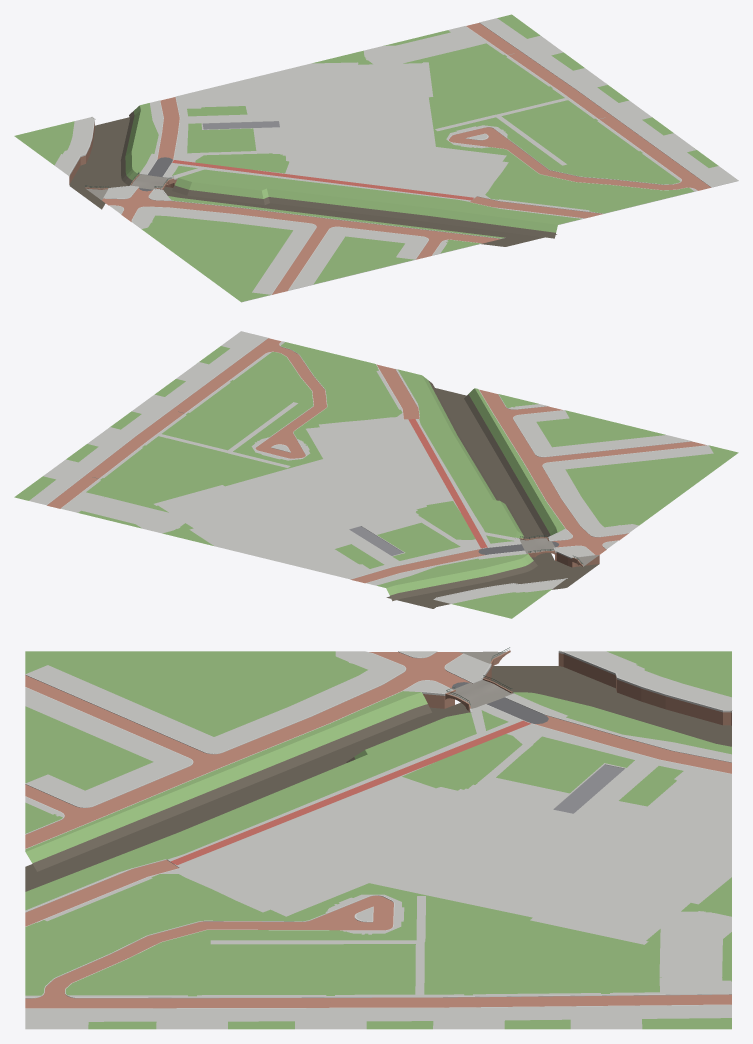
Rendered from ground_8_13.glb.
3 renders of one model, top to bottom at view 1: azimuth 30°, elevation 25°; view 2: azimuth 150°, elevation 25°; view 3: azimuth 270°, elevation 25°, orthographic. The views are drawn at different scales.
Parts seen in each view (by area): view 1: ground_8_13; view 2: ground_8_13; view 3: ground_8_13.
Boxes of the visible parts, left/top/right/bottom form: ground_8_13: left=14, top=14, right=738, bottom=302; ground_8_13: left=14, top=331, right=738, bottom=618; ground_8_13: left=25, top=647, right=732, bottom=1029.
Bounding box in the file's own units: 200 × 4.83 × 162.
